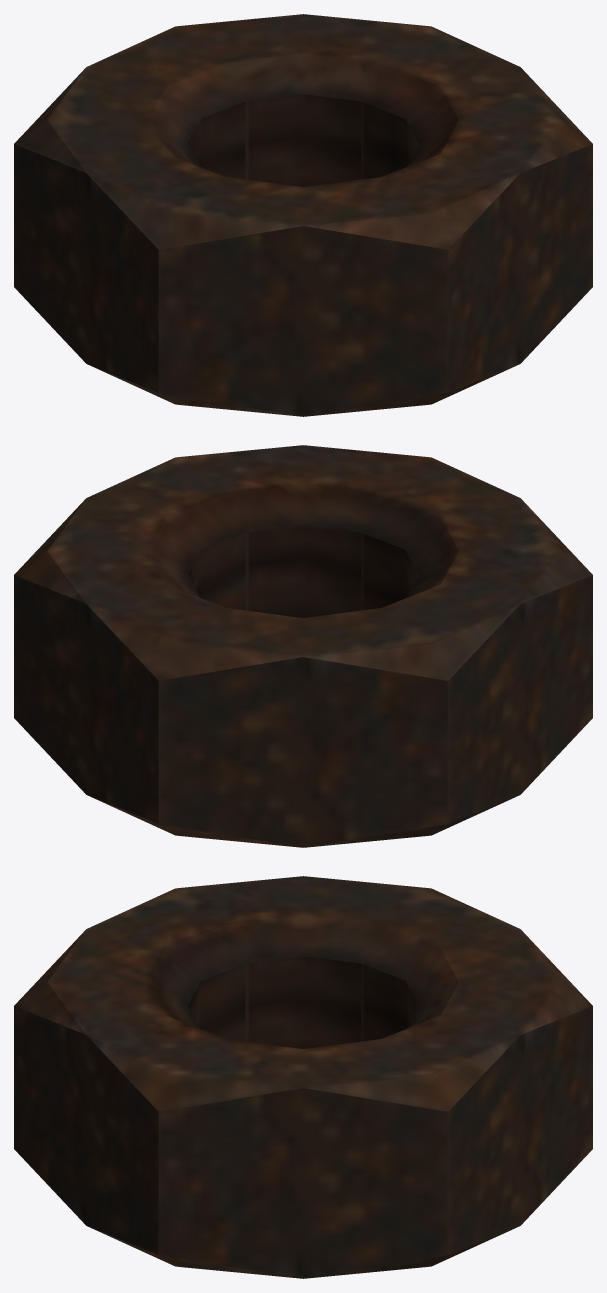
File: hexagon_nut_mx_1.dae
The picture shows the model from 3 angles, top to bottom: view 1: azimuth 30°, elevation 25°; view 2: azimuth 150°, elevation 25°; view 3: azimuth 270°, elevation 25°; orthographic projection.
Visible parts, largest first — view 1: hexagon_nut_mx_1; view 2: hexagon_nut_mx_1; view 3: hexagon_nut_mx_1.
Part boxes in pixels (box(x1,y1,x2,y2)): hexagon_nut_mx_1: box(14, 14, 592, 416); hexagon_nut_mx_1: box(14, 445, 592, 847); hexagon_nut_mx_1: box(14, 876, 592, 1278).
Bounding box in the file's own units: 0.1905 × 0.22 × 0.08.
1 material, 1 textured.
